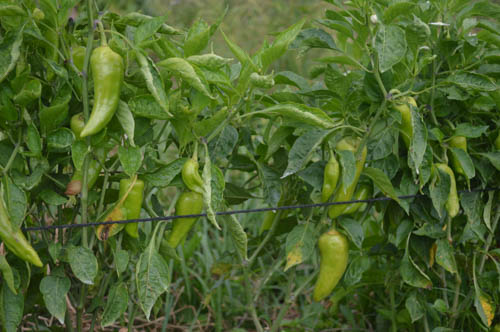ChiliPepper: (80, 48, 125, 133), (65, 117, 104, 194), (313, 231, 350, 305), (333, 139, 367, 218), (3, 212, 43, 265), (169, 193, 203, 242), (118, 178, 145, 237), (394, 100, 422, 153), (180, 158, 210, 191), (444, 133, 469, 171), (344, 187, 373, 219), (318, 160, 337, 205)
